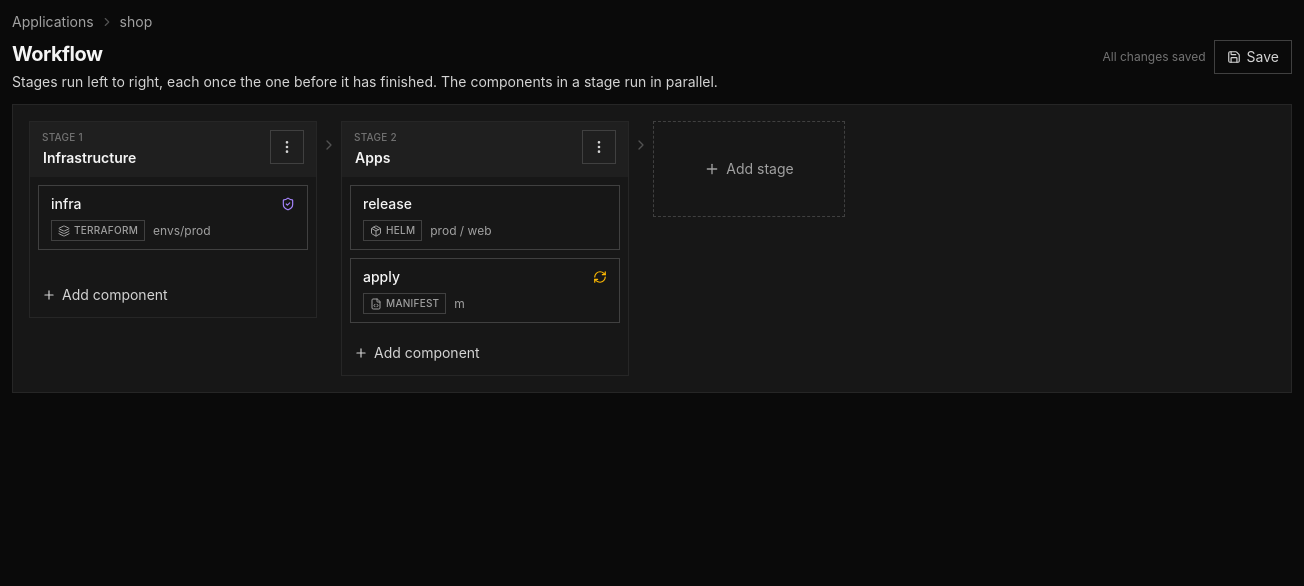
Test: WorkflowBuilder › asks before moving OpenTofu state to another backend, then saves with the switch confirmed
This screenshot has width=1304, height=586.
Expected: the text "release" is shown, [363,194,412,214]
Click the button "Save" at (1253, 57), box [1214,40,1292,74]
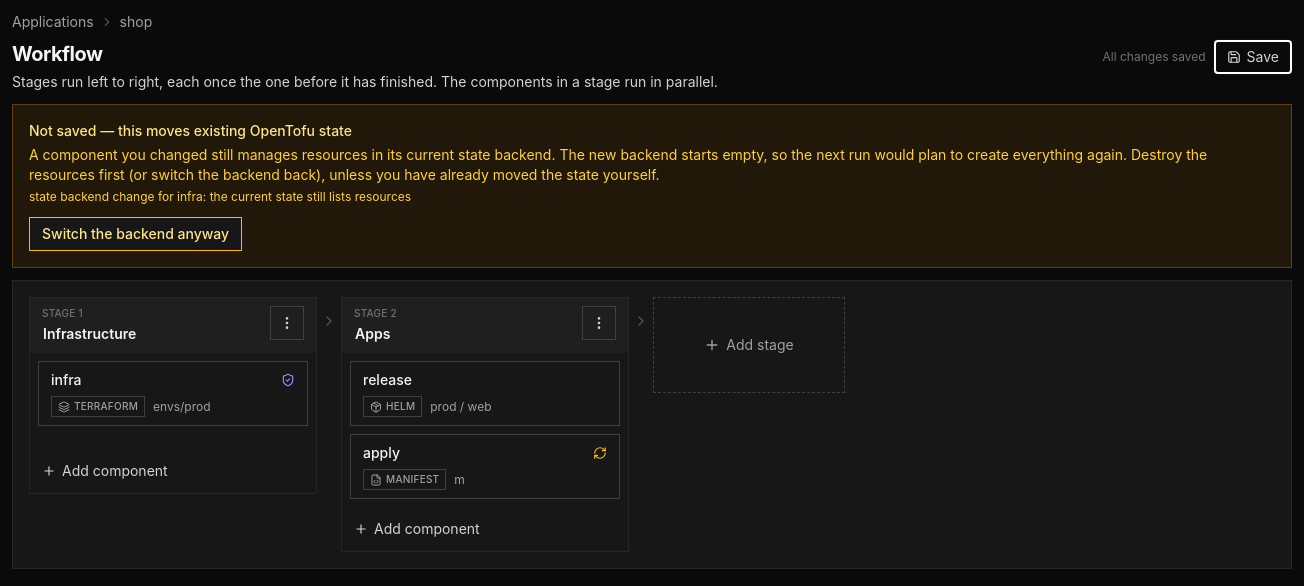
Expected: the message shows "Not saved — this moves existing OpenTofu state", [29,122,352,139]
Expected: the message shows "state backend change for infra", [29,189,411,204]
Click the button "Switch the backend anyway" at (136, 234), box [29,217,242,251]
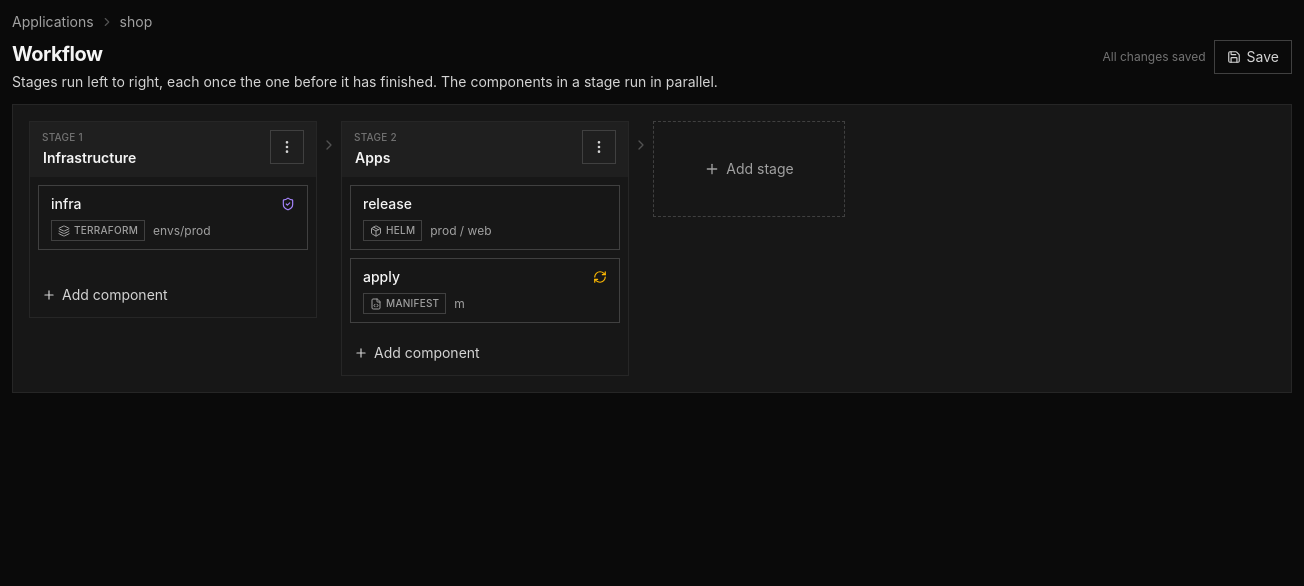
Expected: the message is gone
